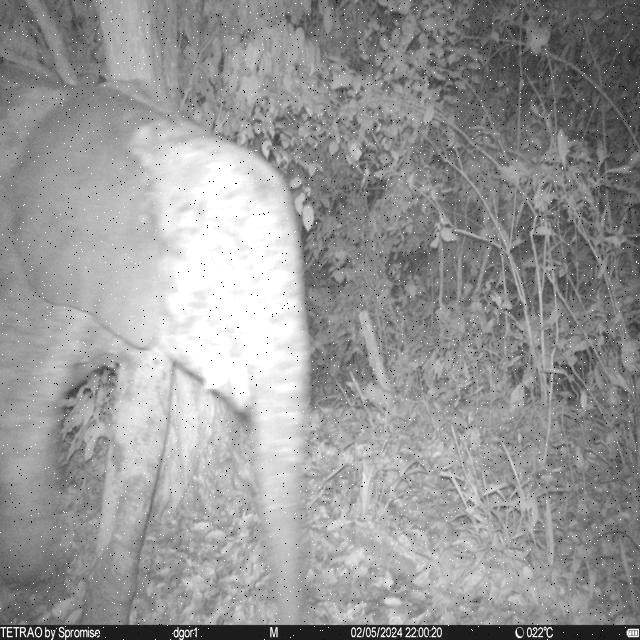ear: (7, 87, 182, 352)
elephant: (0, 81, 326, 626)
